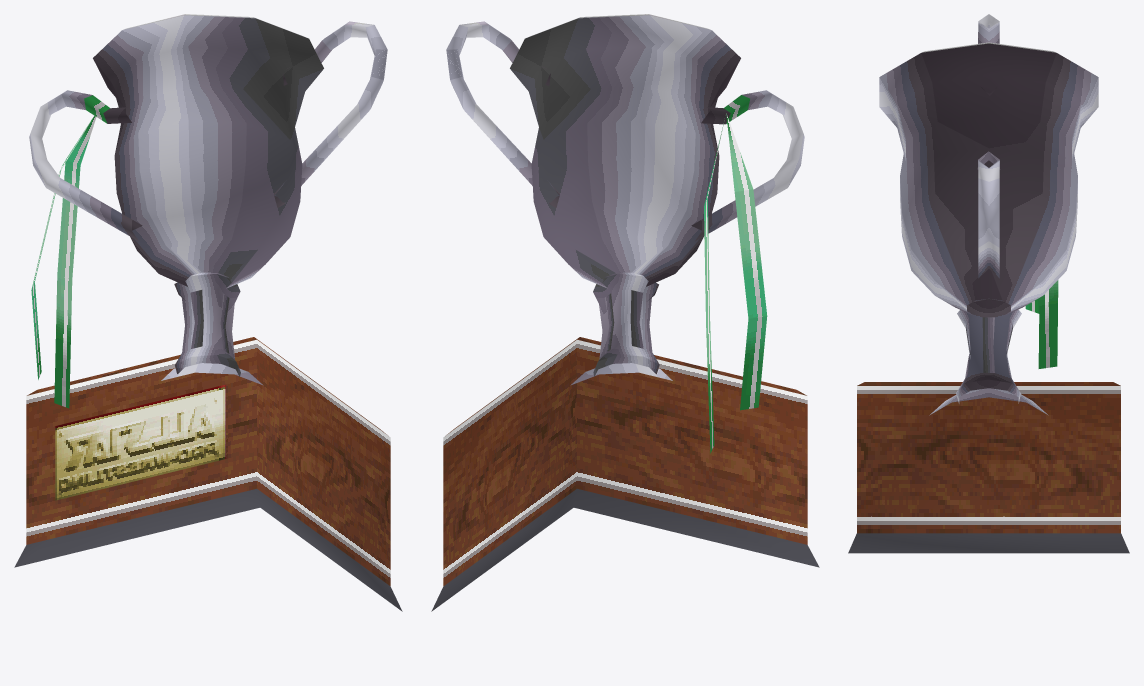
File: ps2_save-icons_allstarprowrestlingii.glb
3 views of the same model, side by side, from view 1: azimuth 30°, elevation 25°; view 2: azimuth 150°, elevation 25°; view 3: azimuth 270°, elevation 25° (orthographic).
Visible parts, largest first — view 1: icon01.bin; view 2: icon01.bin; view 3: icon01.bin.
Boxes of the visible parts, x1,y1,x2,y2 form: icon01.bin: (14,14,402,611); icon01.bin: (431,14,819,611); icon01.bin: (848,14,1129,553).
Bounding box in the file's own units: 3.38 × 4.81 × 2.33.
Materials: 1 (1 with a texture image).
